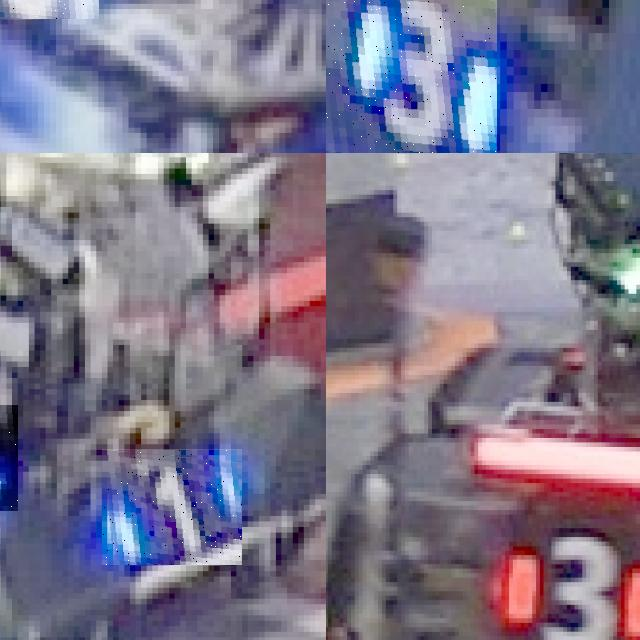B1: (102, 450, 242, 566)
B3: (326, 0, 496, 153)
R3: (493, 528, 640, 640)
